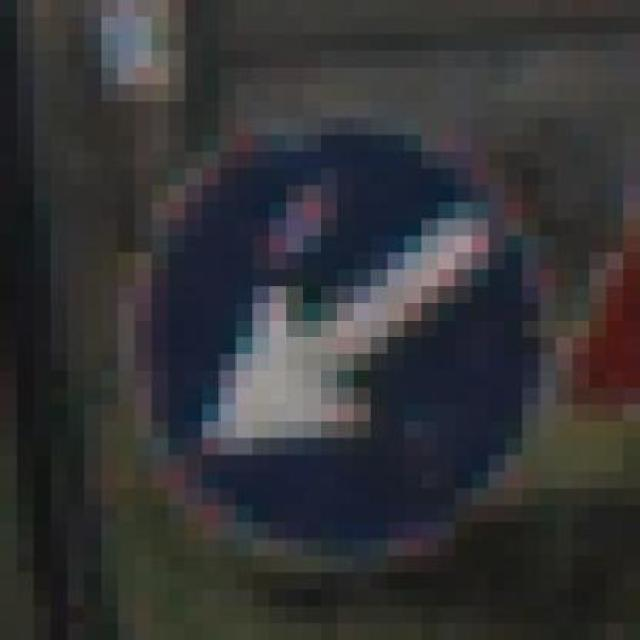Keep-Left: (101, 101, 590, 590)
